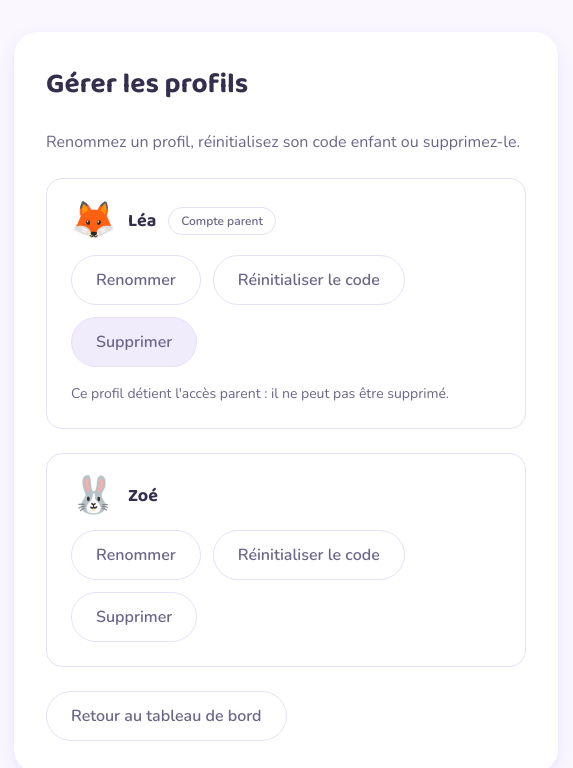
Scenario: ProfileManager — réinitialiser le PIN enfant › PIN 4 chiffres + succès → appelle resetChildPinAction
Click the button "Réinitialiser le code" below "Zoé": [309, 555] box [213,530,405,580]
(page scrolled)
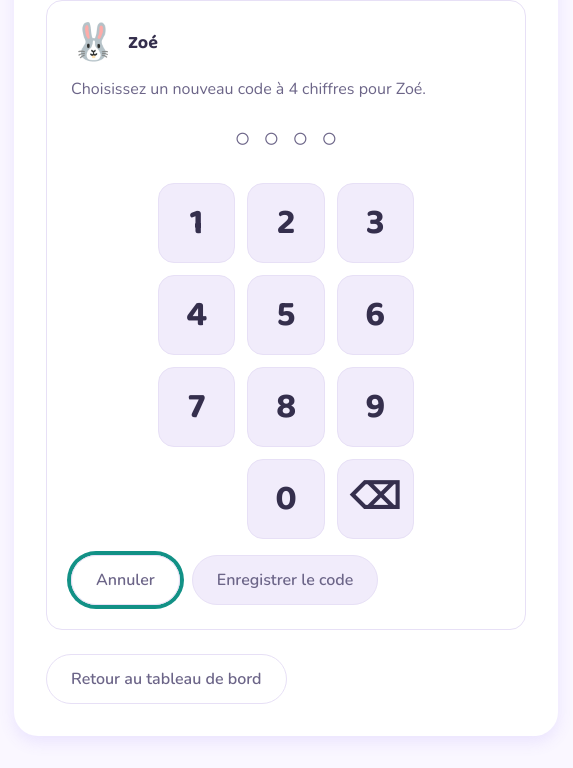
Now the button "Enregistrer le code" is disabled, box [192,555,378,605]
Click the button "3": [375, 223] box [337,183,414,263]
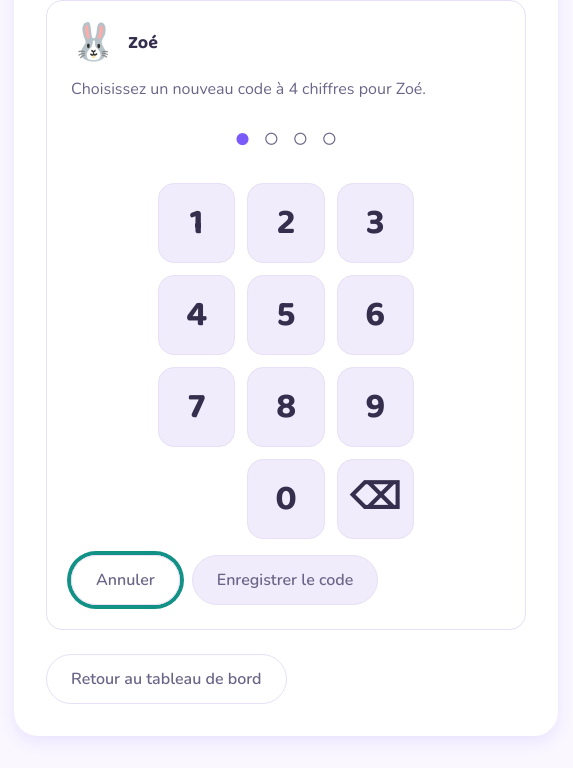
Click the button "3": [375, 223] box [337,183,414,263]
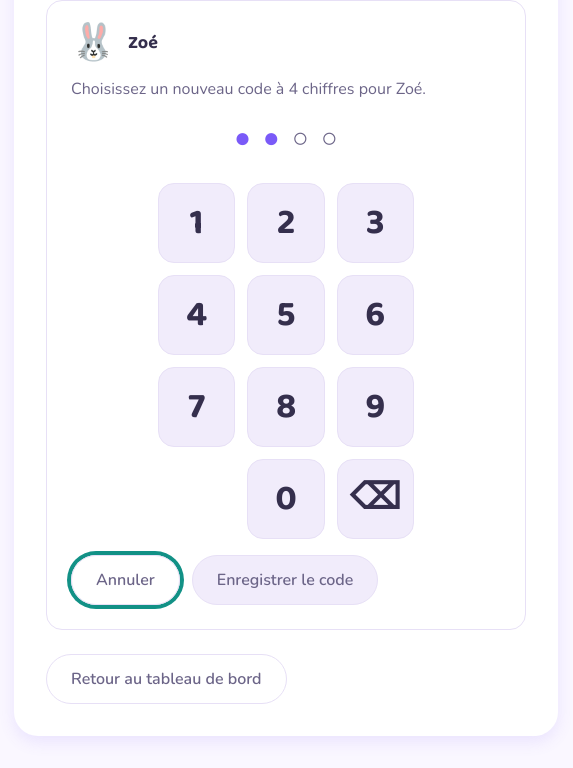
Click the button "3": [375, 223] box [337,183,414,263]
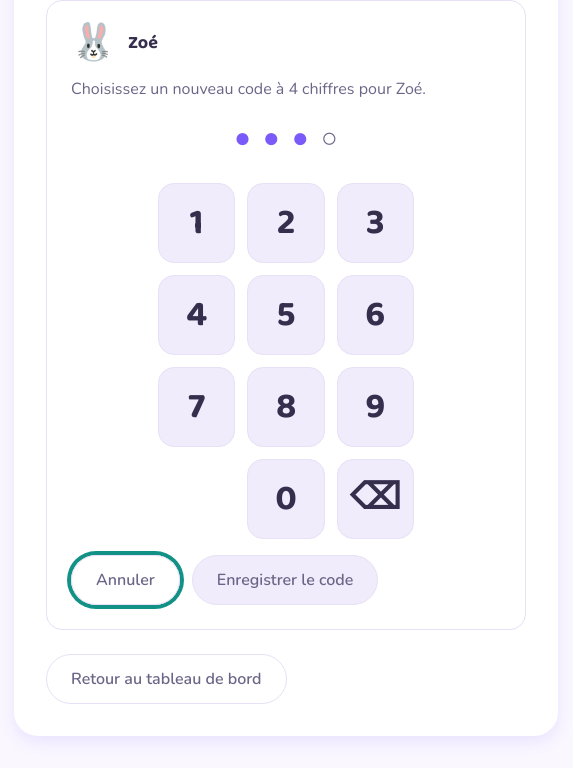
Click the button "3": [375, 223] box [337,183,414,263]
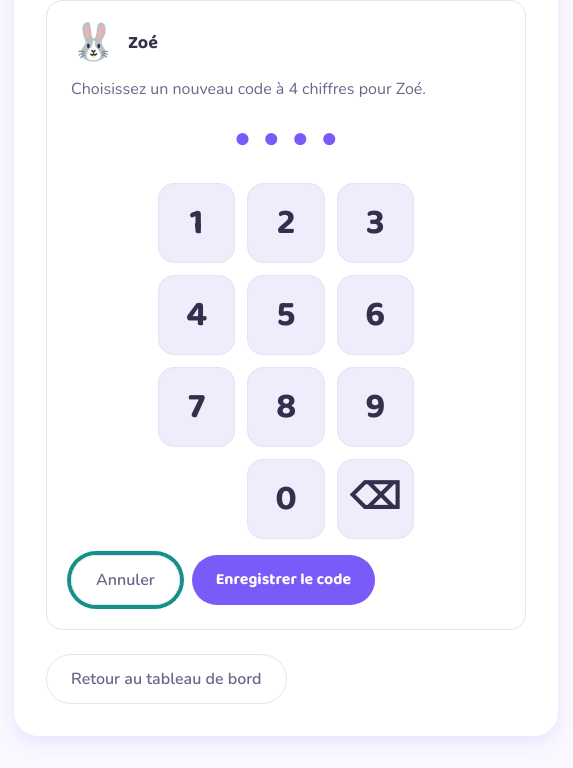
Click the button "Enregistrer le code": [283, 580] box [192,555,375,605]
(page scrolled)
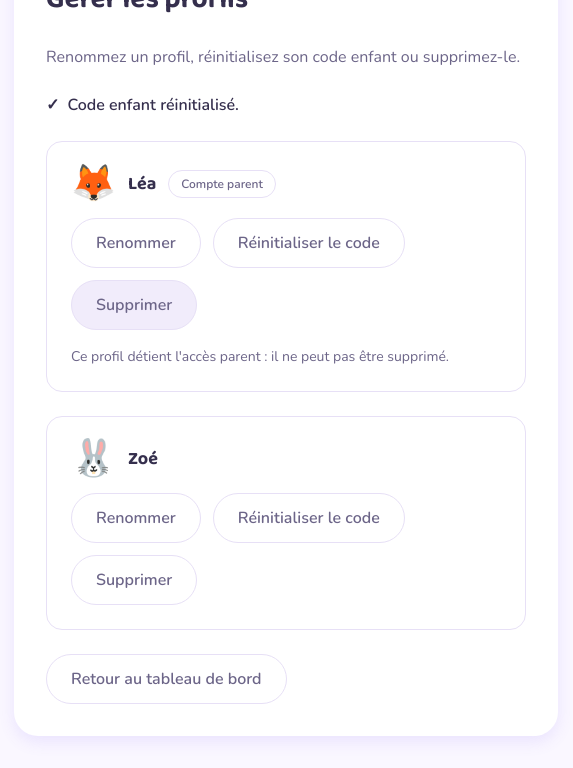
Now the text "Code enfant réinitialisé." is shown, box [67,94,239,116]
